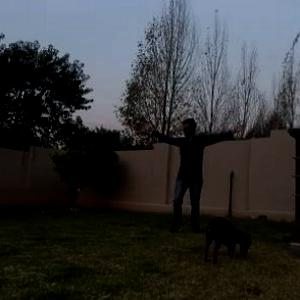takeoff: (144, 114, 257, 243)
